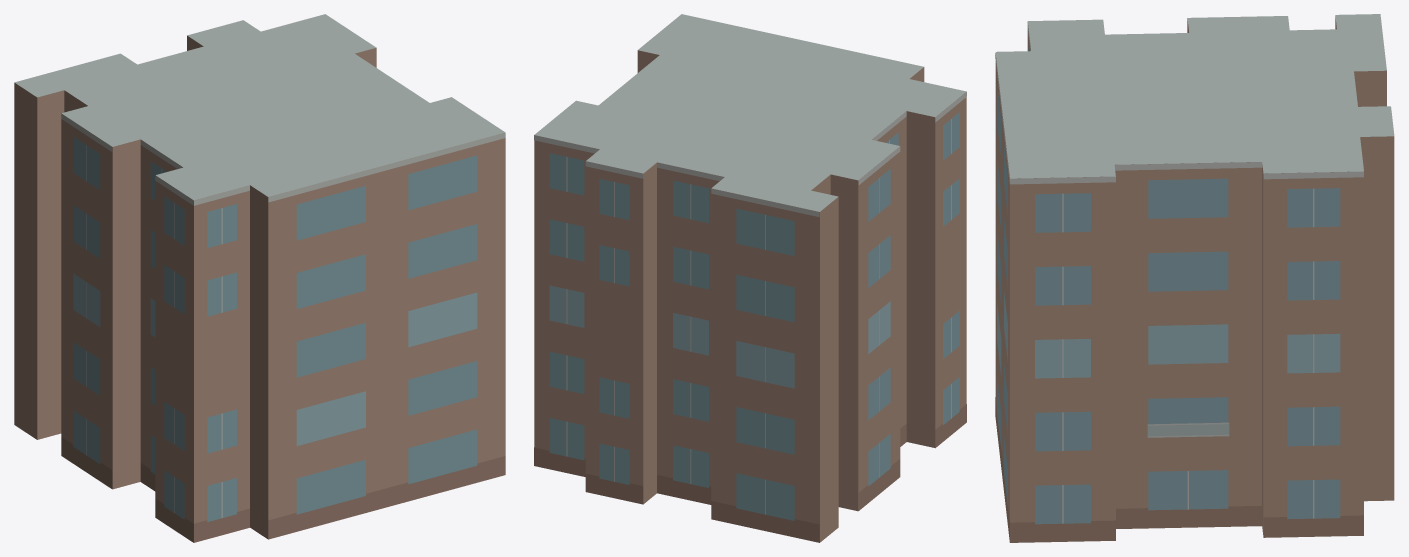
File: survey-upis-32615258.glb
3 views of the same model, side by side, from view 1: azimuth 30°, elevation 25°; view 2: azimuth 150°, elevation 25°; view 3: azimuth 270°, elevation 25° (orthographic). The views are drawn at different scales.
Parts seen in each view (by area): view 1: survey-upis-32615258.tmp; view 2: survey-upis-32615258.tmp; view 3: survey-upis-32615258.tmp.
Part boxes in pixels (x1,y1,x2,y2): survey-upis-32615258.tmp: [14, 14, 505, 542]; survey-upis-32615258.tmp: [534, 14, 966, 542]; survey-upis-32615258.tmp: [995, 14, 1394, 542].
Bounding box in the file's own units: 14.79 × 15.25 × 15.15.
